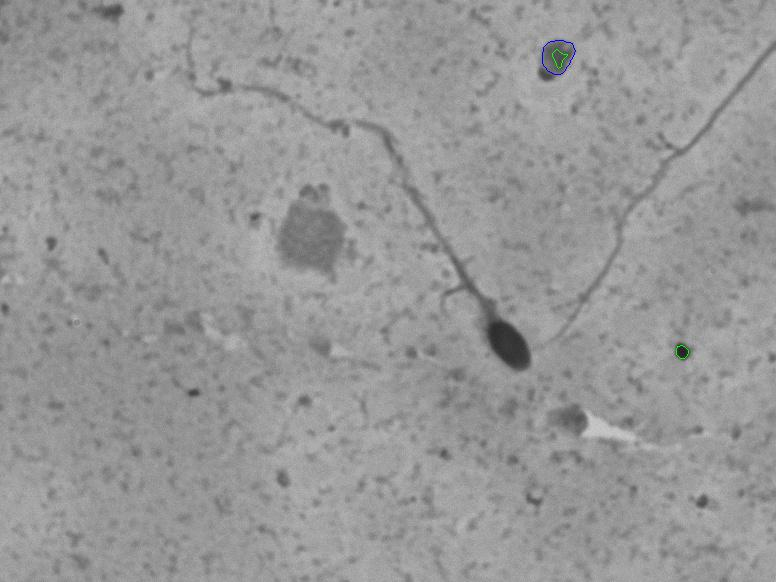Normal: (165, 22, 537, 385)
